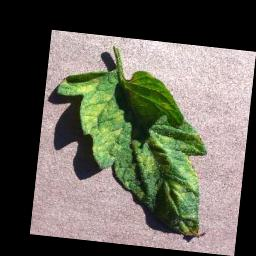Leaf_Mold: (43, 62, 216, 237)
